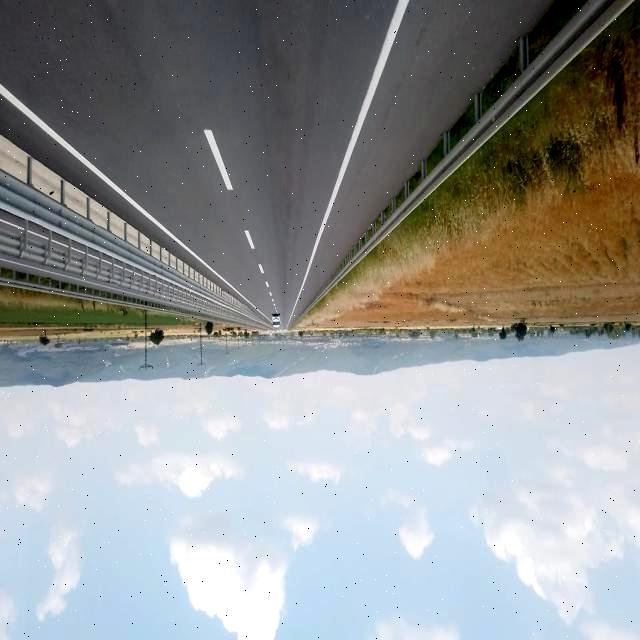lane: (1, 85, 256, 308), (309, 5, 410, 271), (204, 129, 233, 190), (244, 231, 254, 249)
road: (3, 1, 555, 325)
